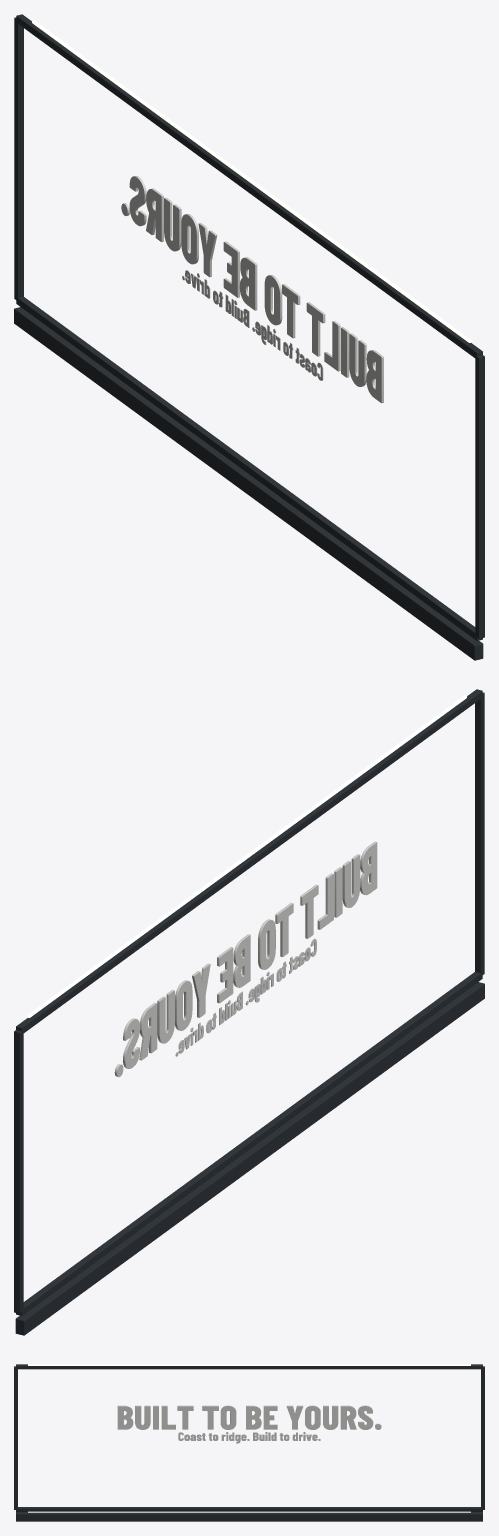
The model's file is tour-wall-details.glb.
The picture shows the model from 3 angles, top to bottom: view 1: azimuth 30°, elevation 25°; view 2: azimuth 150°, elevation 25°; view 3: azimuth 270°, elevation 25°; orthographic projection. The views are drawn at different scales.
Visible parts, largest first — view 1: tour_wall_base_trim, BUILT TO BE YOURS., tour_wall_metal_horizontal_surround, tour_wall_metal_horizontal_surround.001, tour_wall_metal_vertical_surround.001, tour_wall_metal_vertical_surround, tour_wall_top_warm_diffuser, Coast to ridge. Build to drive.; view 2: tour_wall_base_trim, BUILT TO BE YOURS., tour_wall_metal_horizontal_surround, tour_wall_metal_horizontal_surround.001, tour_wall_metal_vertical_surround, tour_wall_metal_vertical_surround.001, tour_wall_top_warm_diffuser, Coast to ridge. Build to drive.; view 3: tour_wall_base_trim, BUILT TO BE YOURS., tour_wall_metal_horizontal_surround, tour_wall_metal_horizontal_surround.001, tour_wall_top_warm_diffuser, tour_wall_soft_base_edge, Coast to ridge. Build to drive., tour_wall_metal_vertical_surround, tour_wall_metal_vertical_surround.001.
Part boxes in pixels (left/top/right/bottom): tour_wall_base_trim: left=14, top=307, right=483, bottom=660; BUILT TO BE YOURS.: left=121, top=176, right=383, bottom=403; tour_wall_metal_horizontal_surround: left=16, top=297, right=482, bottom=640; tour_wall_metal_horizontal_surround.001: left=16, top=14, right=482, bottom=358; tour_wall_metal_vertical_surround.001: left=475, top=355, right=484, bottom=638; tour_wall_metal_vertical_surround: left=14, top=17, right=23, bottom=300; tour_wall_top_warm_diffuser: left=32, top=20, right=471, bottom=342; Coast to ridge. Build to drive.: left=182, top=270, right=323, bottom=380; tour_wall_base_trim: left=15, top=982, right=484, bottom=1335; BUILT TO BE YOURS.: left=114, top=841, right=377, bottom=1077; tour_wall_metal_horizontal_surround: left=16, top=972, right=482, bottom=1315; tour_wall_metal_horizontal_surround.001: left=16, top=689, right=482, bottom=1033; tour_wall_metal_vertical_surround: left=14, top=1030, right=23, bottom=1313; tour_wall_metal_vertical_surround.001: left=475, top=692, right=484, bottom=975; tour_wall_top_warm_diffuser: left=27, top=695, right=466, bottom=1017; Coast to ridge. Build to drive.: left=175, top=938, right=316, bottom=1056; tour_wall_base_trim: left=16, top=1512, right=482, bottom=1521; BUILT TO BE YOURS.: left=117, top=1405, right=381, bottom=1429; tour_wall_metal_horizontal_surround: left=16, top=1507, right=482, bottom=1511; tour_wall_metal_horizontal_surround.001: left=16, top=1364, right=482, bottom=1369; tour_wall_top_warm_diffuser: left=28, top=1364, right=470, bottom=1365; tour_wall_soft_base_edge: left=28, top=1511, right=470, bottom=1512; Coast to ridge. Build to drive.: left=178, top=1432, right=320, bottom=1443; tour_wall_metal_vertical_surround: left=481, top=1366, right=484, bottom=1509; tour_wall_metal_vertical_surround.001: left=14, top=1366, right=17, bottom=1509.
Bounding box in the file's own units: 0.1078 × 3.28 × 8.92.
